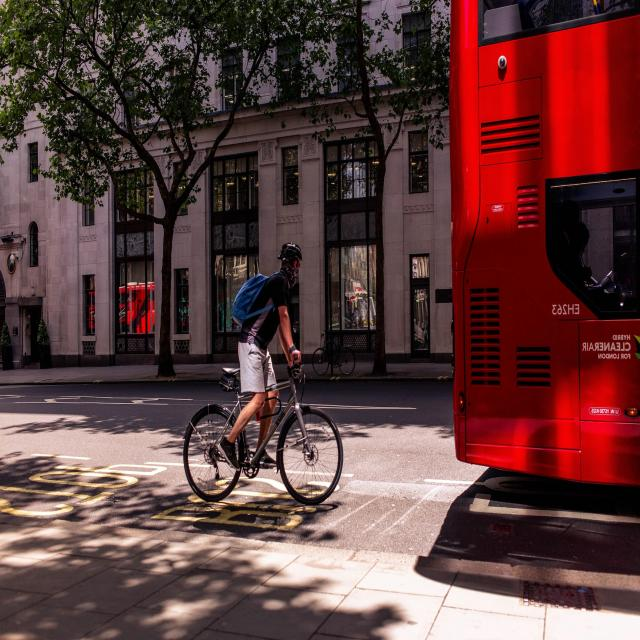adult: (218, 244, 302, 470)
